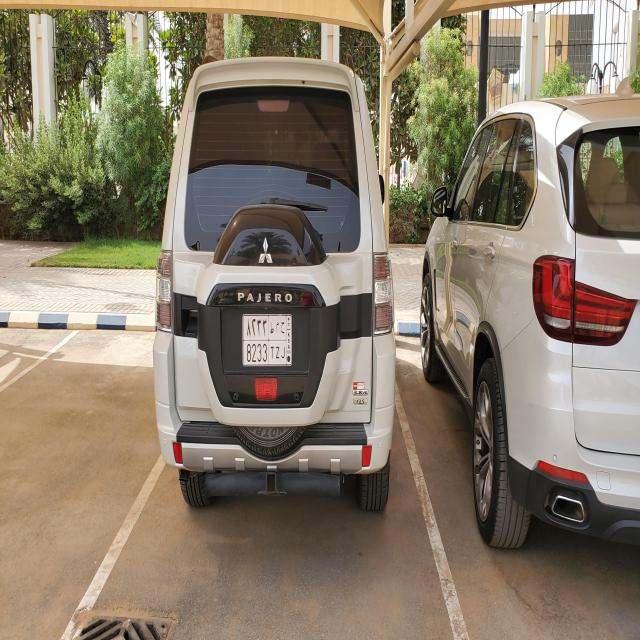license_plate: (242, 313, 292, 366)
